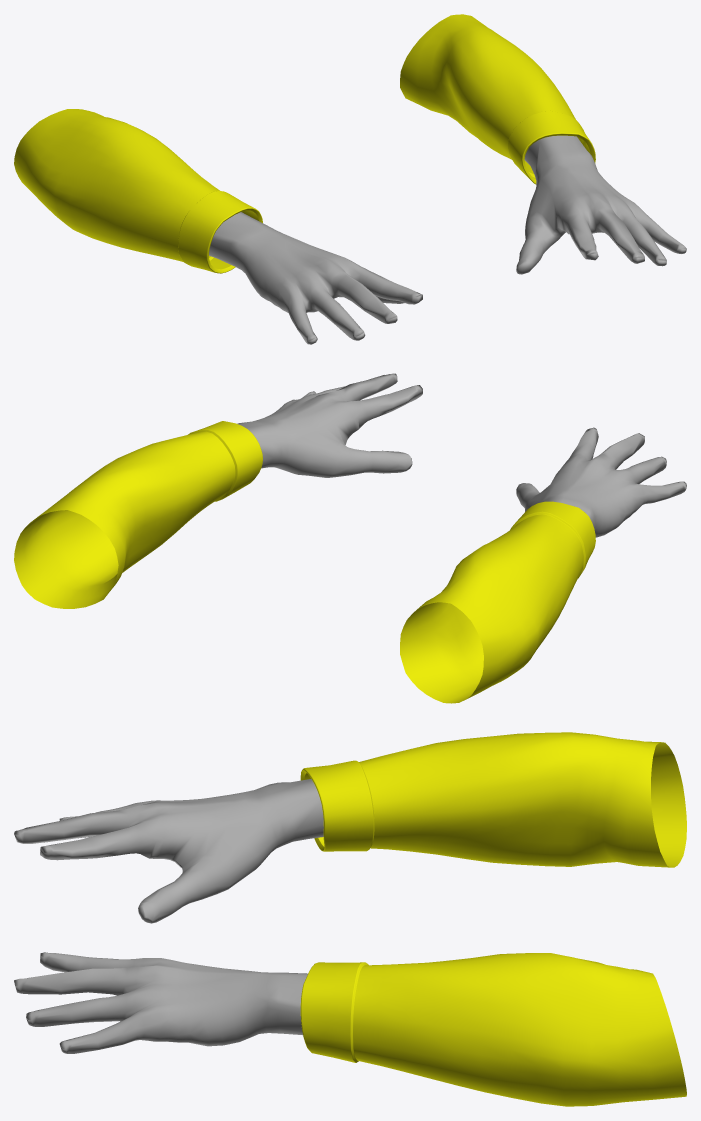
Rendered from 2_bras.fbx.
The picture shows the model from 3 angles, top to bottom: view 1: azimuth 30°, elevation 25°; view 2: azimuth 150°, elevation 25°; view 3: azimuth 270°, elevation 25°; orthographic projection. The views are drawn at different scales.
Visible parts, largest first — view 1: bras_double; view 2: bras_double; view 3: bras_double.
Boxes of the visible parts, x1=… form: bras_double: x1=14, y1=14, x2=686, y2=344; bras_double: x1=14, y1=373, x2=686, y2=703; bras_double: x1=14, y1=732, x2=686, y2=1106.
Bounding box in the file's own units: 97.06 × 20.7 × 93.82.
